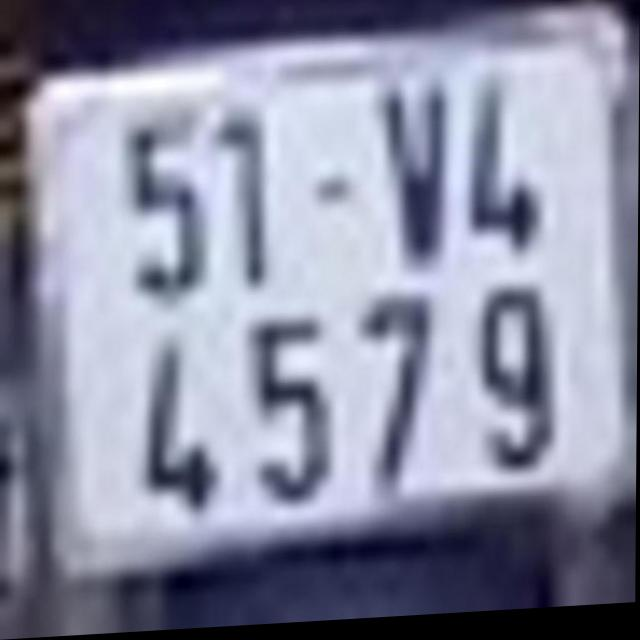1: (209, 114, 275, 307)
4: (143, 336, 223, 516), (467, 75, 542, 264)
5: (249, 318, 334, 506), (131, 121, 205, 310)
7: (362, 299, 431, 498)
9: (480, 290, 558, 481)
V: (379, 86, 448, 269)
